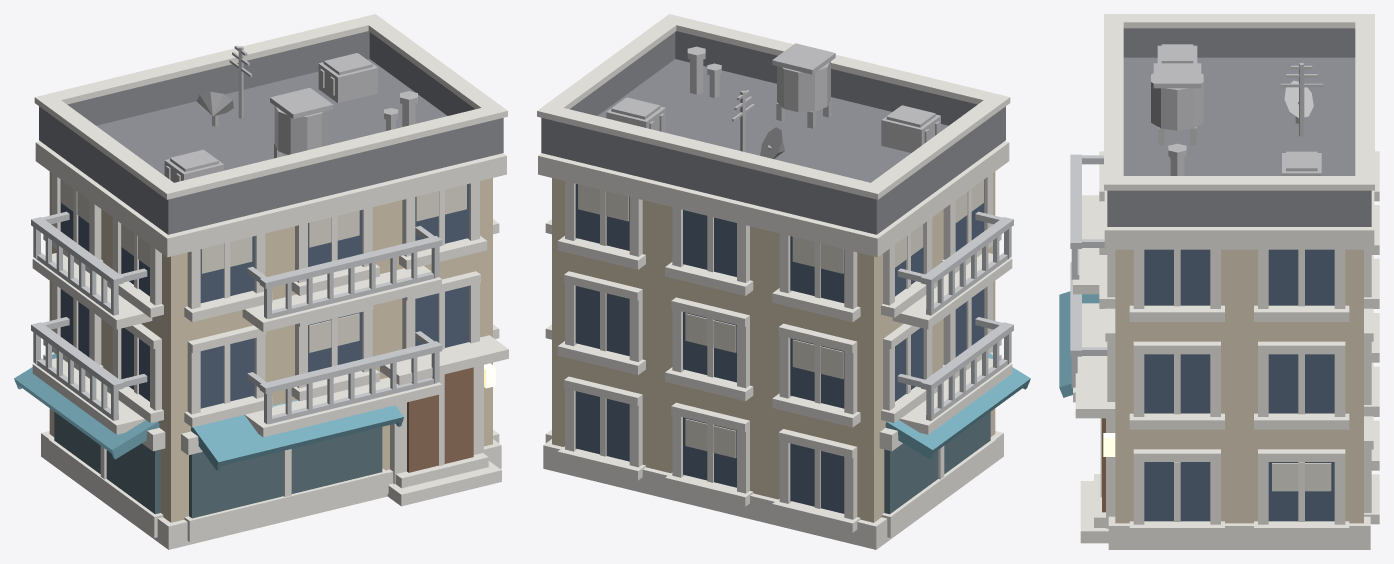
The model's file is bld_1_2.glb.
3 renders of one model, left to right at view 1: azimuth 30°, elevation 25°; view 2: azimuth 150°, elevation 25°; view 3: azimuth 270°, elevation 25°, orthographic. The views are drawn at different scales.
Parts seen in each view (by area): view 1: trim, rf, w, rail, win, shop, ac, awn, blind, door; view 2: trim, rf, w, win, ac, rail, blind, shop, awn; view 3: trim, rf, w, win, ac, rail, blind, awn.
Part boxes in pixels (box(x1,y1,x2,y2)): trim: box(32, 14, 508, 549); rf: box(39, 31, 503, 234); w: box(49, 171, 492, 522); rail: box(31, 211, 442, 424); win: box(60, 180, 469, 408); shop: box(54, 412, 382, 518); ac: box(164, 45, 417, 182); awn: box(14, 353, 403, 470); blind: box(61, 180, 466, 352); door: box(407, 367, 473, 472); trim: box(537, 14, 1012, 549); rf: box(541, 31, 1005, 234); w: box(552, 171, 995, 522); win: box(575, 180, 984, 513); ac: box(606, 43, 940, 159); rail: box(897, 211, 1013, 420); blind: box(578, 180, 983, 458); shop: box(884, 412, 990, 514); awn: box(885, 353, 1030, 459); trim: box(1073, 14, 1379, 549); rf: box(1107, 28, 1371, 226); w: box(1115, 249, 1363, 523); win: box(1144, 249, 1334, 521); ac: box(1151, 44, 1322, 175); rail: box(1070, 154, 1107, 387); blind: box(1272, 463, 1331, 491); awn: box(1059, 291, 1099, 397).
Bounding box in the file's own units: 3.42 × 3.36 × 2.42.
